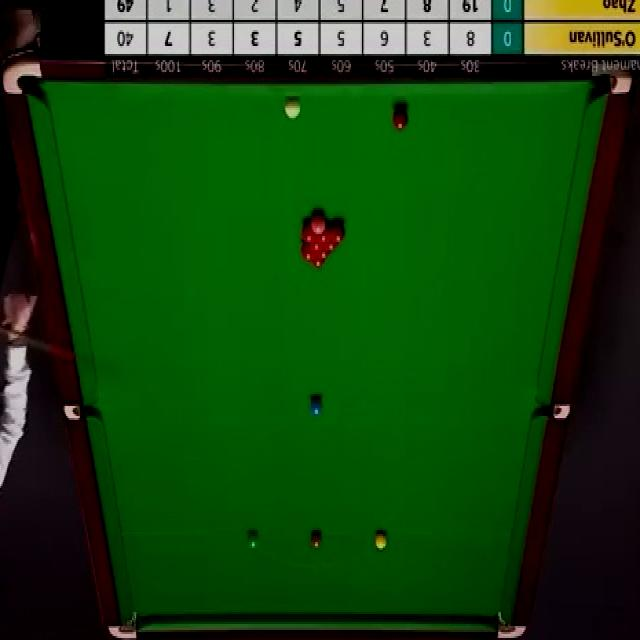blue-ball: (309, 395, 323, 416)
brown-ball: (309, 530, 322, 550)
green-ball: (245, 529, 259, 550)
pink-ball: (311, 212, 326, 234)
red-ball: (393, 105, 409, 131), (330, 219, 345, 244), (300, 221, 316, 242), (302, 241, 316, 261), (317, 223, 330, 243), (308, 256, 326, 268), (324, 238, 338, 253), (308, 240, 325, 252), (316, 249, 332, 259)
white-ball: (284, 96, 302, 120)
yellow-ball: (374, 530, 389, 551)
